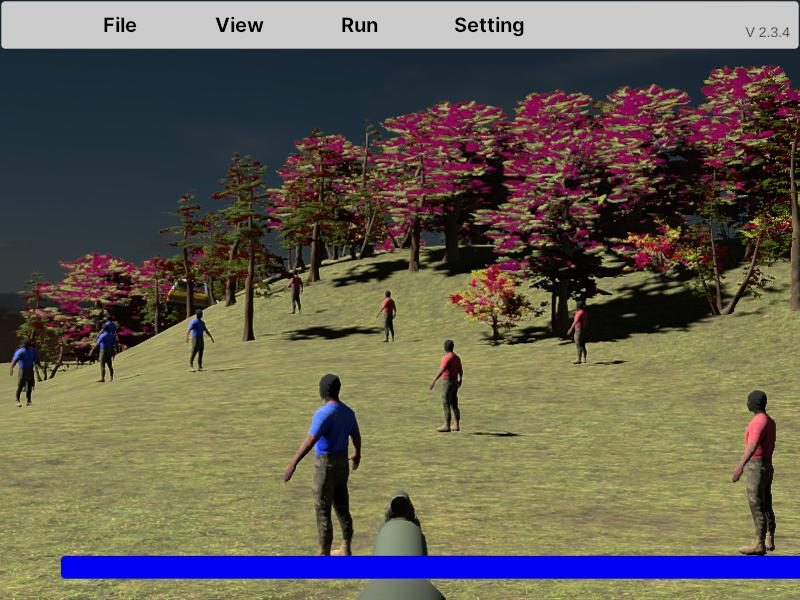Human: (284, 372, 361, 563), (731, 389, 776, 557), (430, 339, 463, 433), (11, 336, 41, 408), (187, 308, 213, 373), (91, 322, 117, 384), (569, 299, 589, 365), (377, 289, 396, 344)
